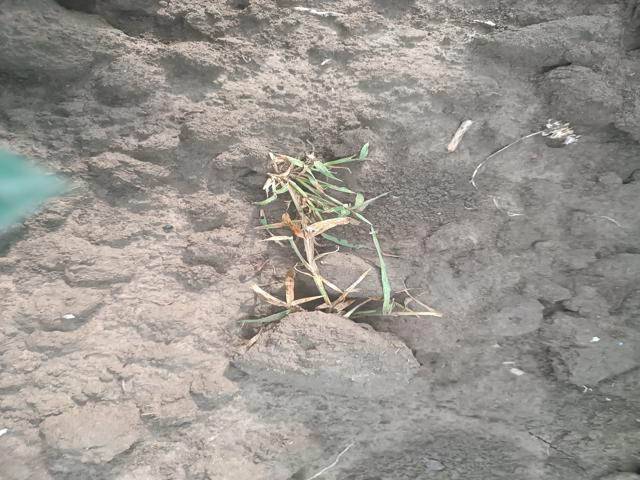bad weed: (232, 131, 438, 380)
